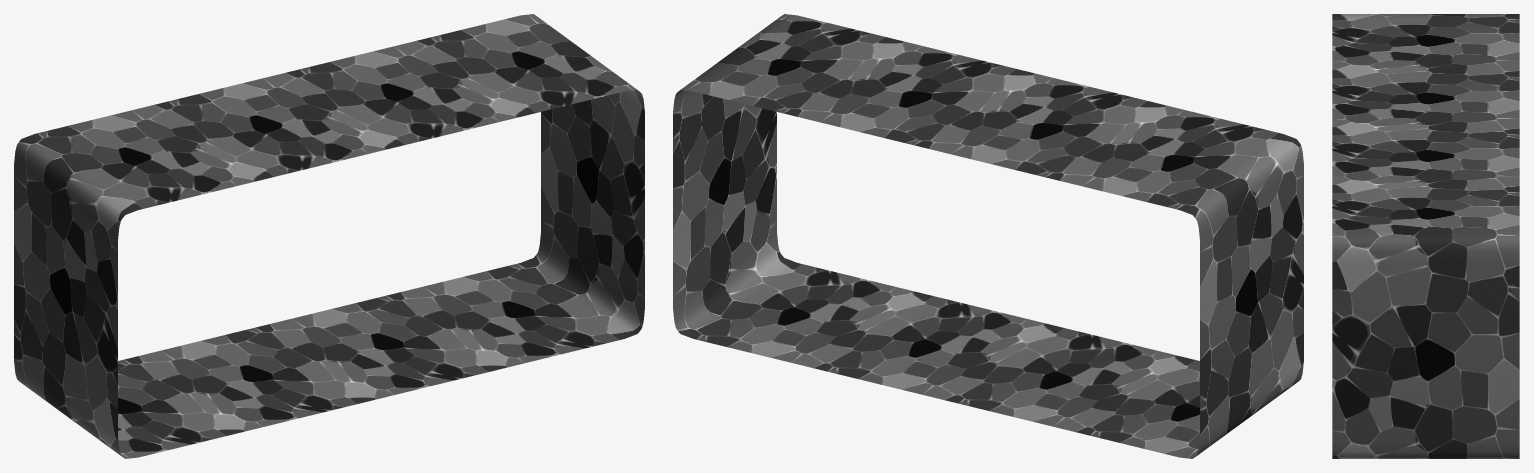
File: teaching.fbx
The picture shows the model from 3 angles, left to right: view 1: azimuth 30°, elevation 25°; view 2: azimuth 150°, elevation 25°; view 3: azimuth 270°, elevation 25°; orthographic projection. The views are drawn at different scales.
Parts seen in each view (by area): view 1: 立方體; view 2: 立方體; view 3: 立方體.
Part boxes in pixels (x1=…): 立方體: x1=14, y1=14, x2=644, y2=458; 立方體: x1=673, y1=14, x2=1303, y2=458; 立方體: x1=1332, y1=14, x2=1519, y2=458.
Size of the model in its own units: 5.85 by 2 by 2.63.
Materials: 1 (1 with a texture image).
